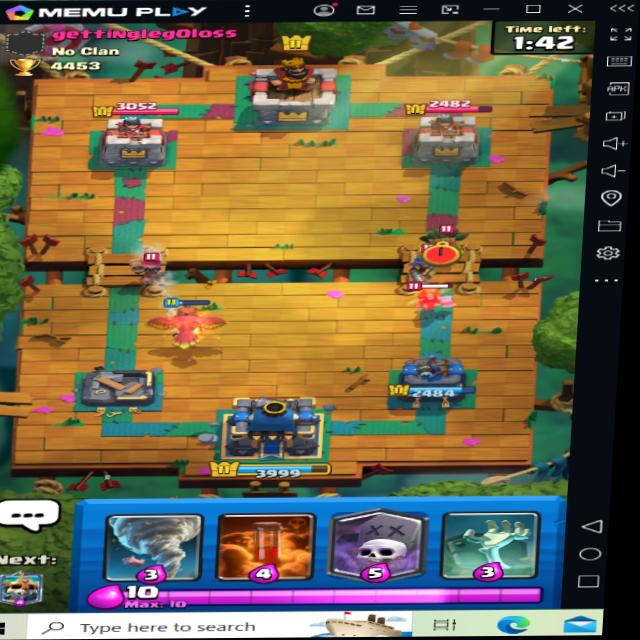dart-goblin: (414, 221, 473, 252)
firecracker: (123, 247, 173, 285)
musketeer: (393, 243, 442, 282)
valkyrie: (397, 277, 470, 314)
